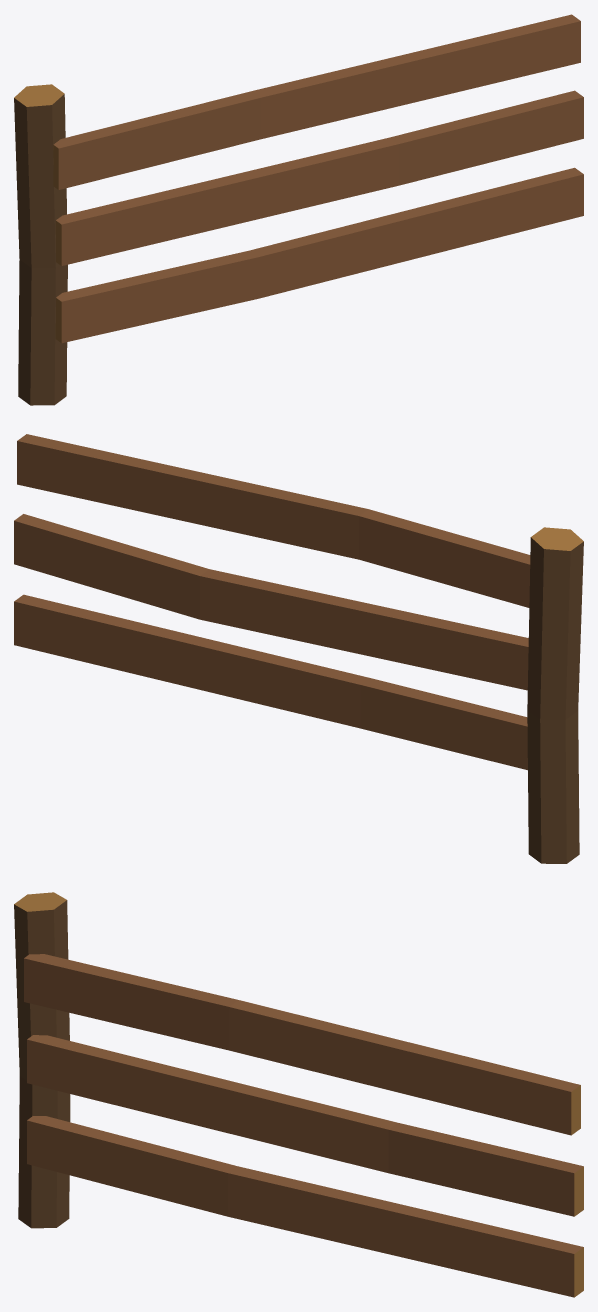
The model's file is buildings-fence-start.glb.
The picture shows the model from 3 angles, top to bottom: view 1: azimuth 30°, elevation 25°; view 2: azimuth 150°, elevation 25°; view 3: azimuth 330°, elevation 25°; orthographic projection. The views are drawn at different scales.
Visible parts, largest first — view 1: fence-start; view 2: fence-start; view 3: fence-start.
Boxes of the visible parts, bbox=[...] form: fence-start: bbox=[14, 14, 583, 405]; fence-start: bbox=[14, 434, 583, 863]; fence-start: bbox=[14, 892, 583, 1297].
Bounding box in the file's own units: 2.09 × 1.11 × 0.2235.
